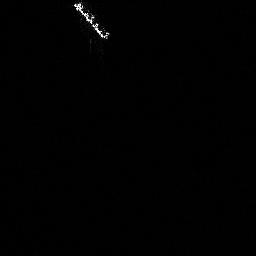ship: (73, 1, 111, 41)
